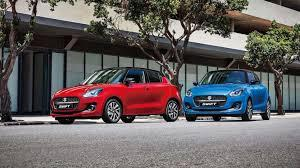Hatchback: (48, 65, 183, 125), (185, 67, 271, 122)
